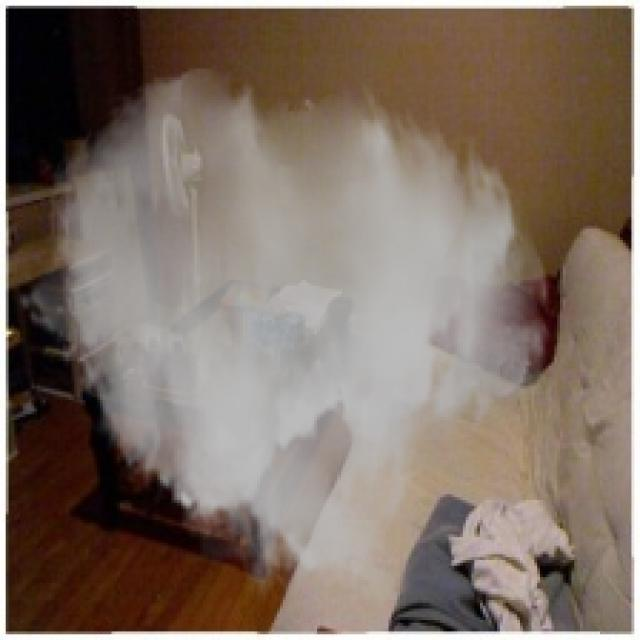Smoke: (17, 63, 554, 612)
